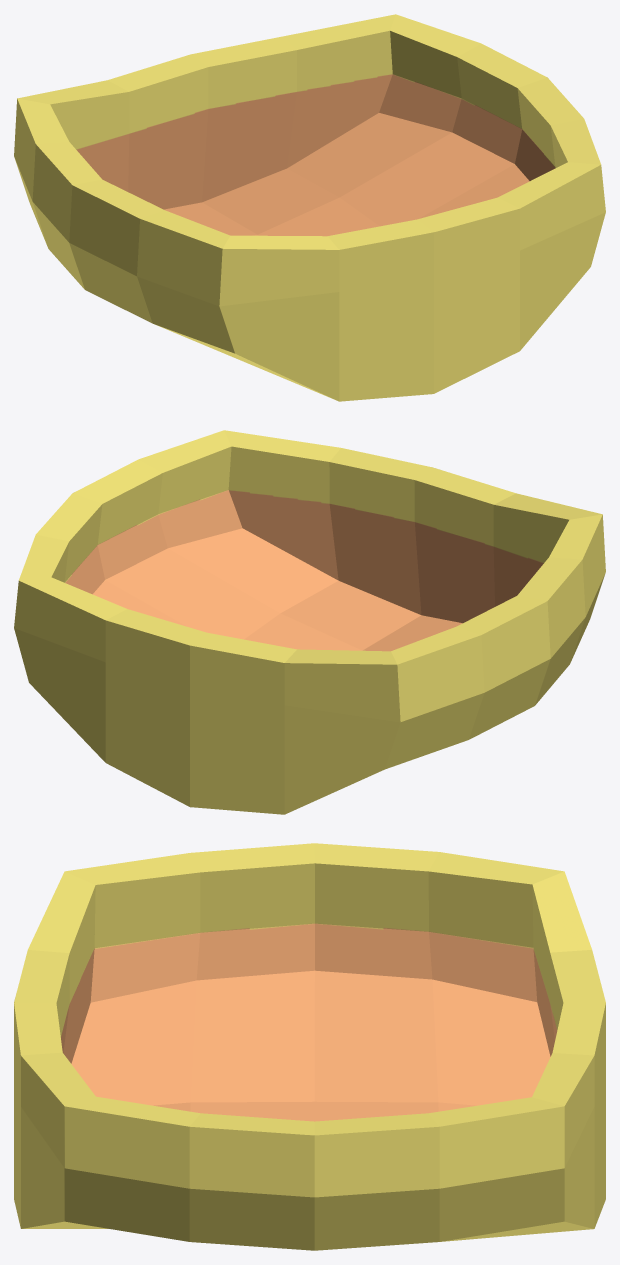
Rendered from nido.obj.
3 views of the same model, one above another, from view 1: azimuth 30°, elevation 25°; view 2: azimuth 150°, elevation 25°; view 3: azimuth 270°, elevation 25° (orthographic). The views are drawn at different scales.
Visible parts, largest first — view 1: nido_Cube.057; view 2: nido_Cube.057; view 3: nido_Cube.057.
Boxes of the visible parts, x1,y1,x2,y2 form: nido_Cube.057: [14, 14, 605, 401]; nido_Cube.057: [14, 430, 605, 814]; nido_Cube.057: [14, 843, 605, 1250].
Size of the model in its own units: 27.16 by 9.48 by 23.68.
1 material, 1 textured.
